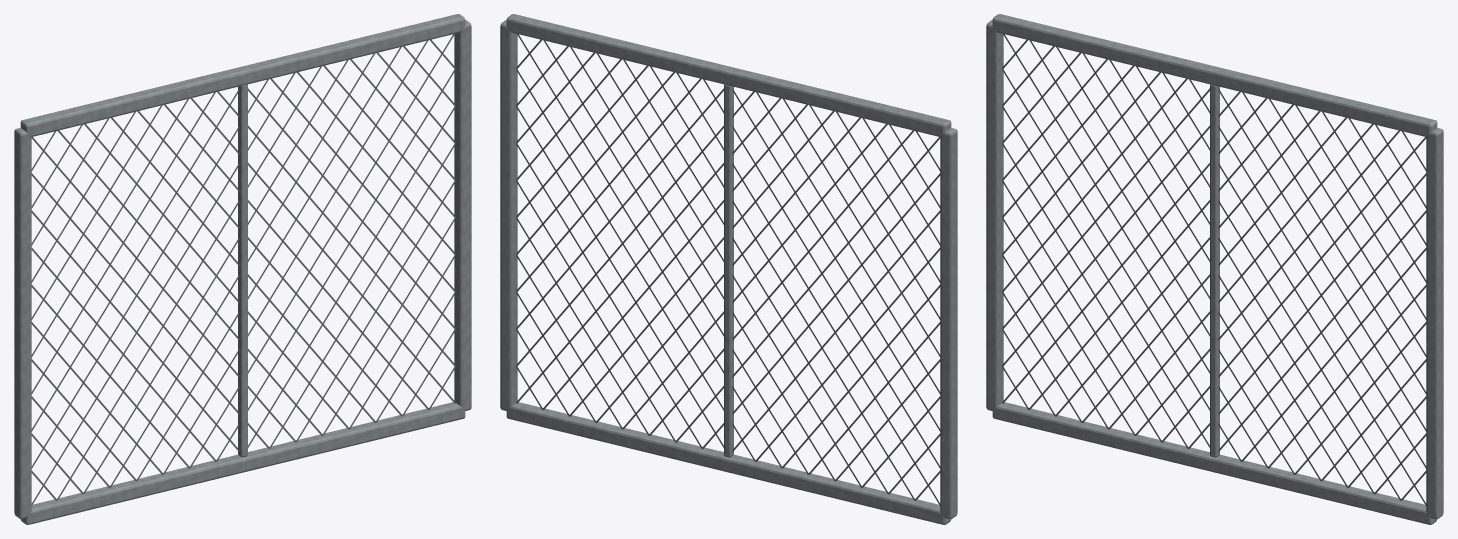
The model's file is Fence_Section.glb.
3 views of the same model, side by side, from view 1: azimuth 30°, elevation 25°; view 2: azimuth 150°, elevation 25°; view 3: azimuth 330°, elevation 25° (orthographic).
Parts seen in each view (by area): view 1: EXPORT_Section_0_ChainLink, EXPORT_Section_0_Top, EXPORT_Section_0_Bottom, EXPORT_Section_0_Start, EXPORT_Section_0_End, EXPORT_Section_0_Center; view 2: EXPORT_Section_0_ChainLink, EXPORT_Section_0_Top, EXPORT_Section_0_Bottom, EXPORT_Section_0_Start, EXPORT_Section_0_End, EXPORT_Section_0_Center; view 3: EXPORT_Section_0_ChainLink, EXPORT_Section_0_Top, EXPORT_Section_0_Bottom, EXPORT_Section_0_End, EXPORT_Section_0_Start, EXPORT_Section_0_Center.
Boxes of the visible parts, x1,y1,x2,y2 form: EXPORT_Section_0_ChainLink: [31, 34, 455, 505]; EXPORT_Section_0_Top: [20, 14, 465, 136]; EXPORT_Section_0_Bottom: [20, 402, 465, 524]; EXPORT_Section_0_Start: [14, 128, 31, 519]; EXPORT_Section_0_End: [454, 20, 471, 410]; EXPORT_Section_0_Center: [238, 84, 247, 457]; EXPORT_Section_0_ChainLink: [516, 34, 940, 505]; EXPORT_Section_0_Top: [506, 14, 951, 136]; EXPORT_Section_0_Bottom: [506, 402, 951, 524]; EXPORT_Section_0_Start: [940, 128, 957, 519]; EXPORT_Section_0_End: [500, 20, 517, 410]; EXPORT_Section_0_Center: [724, 84, 733, 457]; EXPORT_Section_0_ChainLink: [1002, 34, 1426, 505]; EXPORT_Section_0_Top: [992, 14, 1437, 136]; EXPORT_Section_0_Bottom: [992, 402, 1437, 524]; EXPORT_Section_0_End: [1426, 128, 1443, 519]; EXPORT_Section_0_Start: [986, 20, 1003, 410]; EXPORT_Section_0_Center: [1210, 84, 1219, 457].
Bounding box in the file's own units: 2.78 × 2.35 × 0.075.
Materials: 2 (2 with a texture image).
